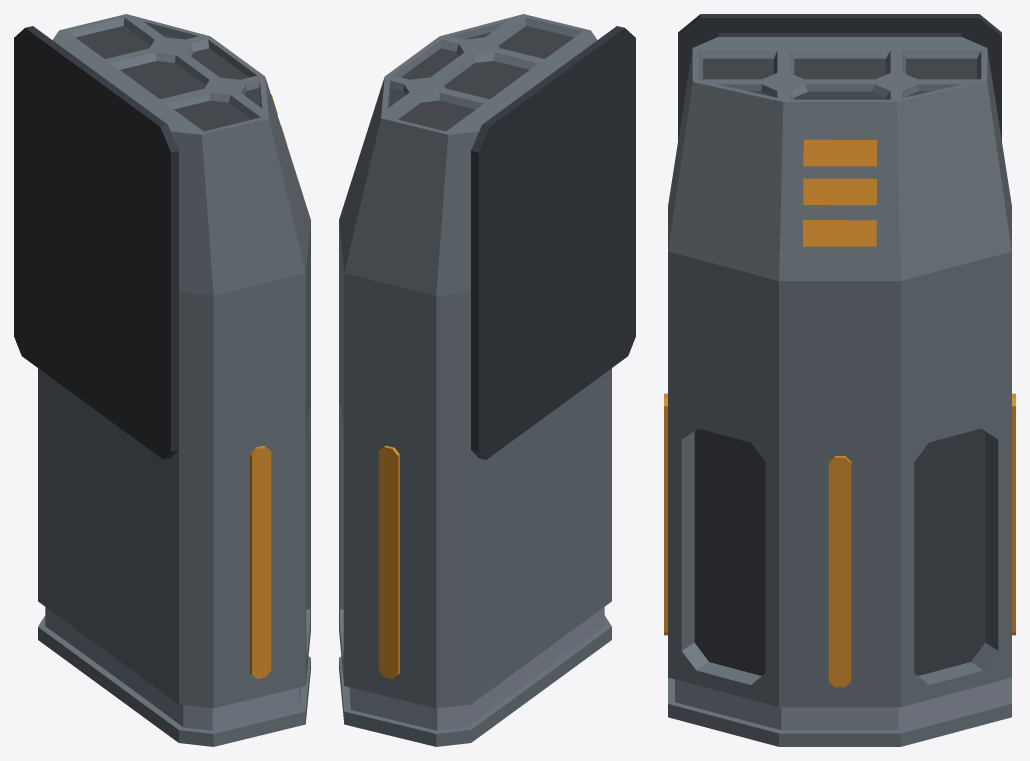
File: SM_Through _roof _ventilation.glb
The picture shows the model from 3 angles, left to right: view 1: azimuth 30°, elevation 25°; view 2: azimuth 150°, elevation 25°; view 3: azimuth 270°, elevation 25°; orthographic projection. The views are drawn at different scales.
Parts seen in each view (by area): view 1: SM_Through _roof _ventilation; view 2: SM_Through _roof _ventilation; view 3: SM_Through _roof _ventilation.
Part boxes in pixels (box(x1,y1,x2,y2)): SM_Through _roof _ventilation: box(14, 14, 310, 746); SM_Through _roof _ventilation: box(339, 14, 635, 746); SM_Through _roof _ventilation: box(664, 14, 1015, 746).
Size of the model in its own units: 0.3332 by 1.02 by 0.5118.
Materials: 1 (1 with a texture image).
